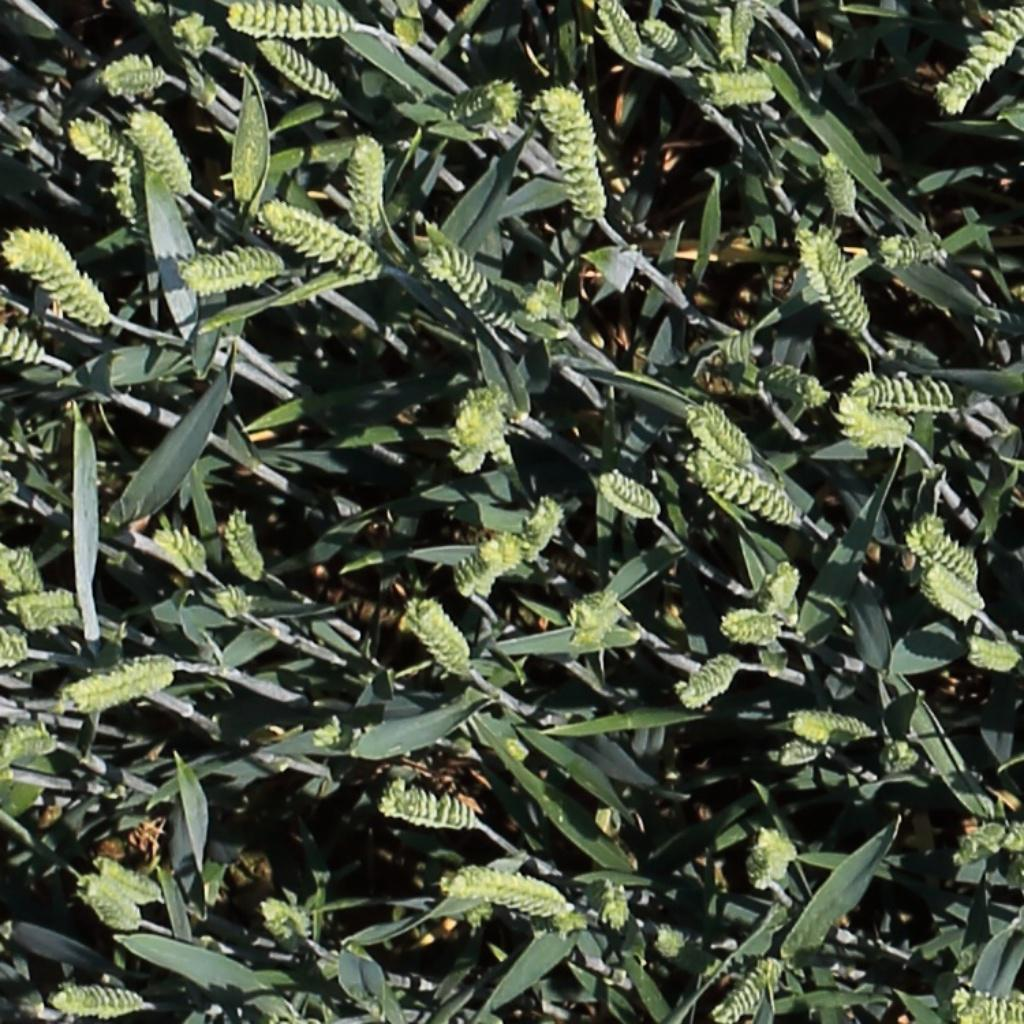0-0: (935, 13, 1022, 116), (452, 864, 587, 928), (8, 234, 105, 323), (62, 646, 184, 715), (428, 248, 518, 333), (268, 206, 380, 274), (546, 86, 603, 218), (806, 225, 872, 337), (701, 464, 802, 525), (129, 103, 195, 196), (176, 245, 287, 298), (856, 373, 969, 424), (454, 389, 518, 476), (872, 220, 961, 281), (709, 954, 786, 1024), (841, 385, 919, 453), (404, 600, 472, 675), (259, 36, 339, 98), (379, 781, 482, 828), (907, 524, 983, 585), (689, 401, 753, 469), (755, 350, 824, 410), (460, 535, 520, 603), (12, 582, 89, 633), (77, 116, 137, 181), (703, 69, 784, 116), (73, 876, 139, 932), (222, 505, 267, 587), (233, 86, 264, 204), (46, 987, 147, 1023), (678, 656, 744, 711), (228, 6, 356, 34), (518, 498, 578, 556), (596, 0, 648, 66), (921, 570, 984, 622), (569, 588, 622, 649), (821, 146, 864, 221), (641, 16, 703, 68), (788, 704, 877, 740), (94, 860, 163, 905), (600, 472, 664, 520), (172, 6, 225, 63), (352, 129, 380, 236), (522, 275, 573, 332), (753, 827, 795, 892), (152, 528, 207, 576), (723, 606, 787, 646), (259, 898, 312, 946), (713, 1, 756, 59), (99, 51, 161, 90), (951, 988, 1022, 1022), (954, 815, 1004, 863), (0, 305, 42, 360), (450, 79, 512, 116), (0, 537, 34, 601), (0, 725, 54, 765), (772, 555, 802, 622), (309, 716, 360, 755), (884, 735, 928, 778), (604, 877, 632, 939), (771, 737, 828, 767), (214, 584, 253, 622), (966, 641, 1021, 666), (655, 924, 688, 962), (0, 636, 21, 666)
